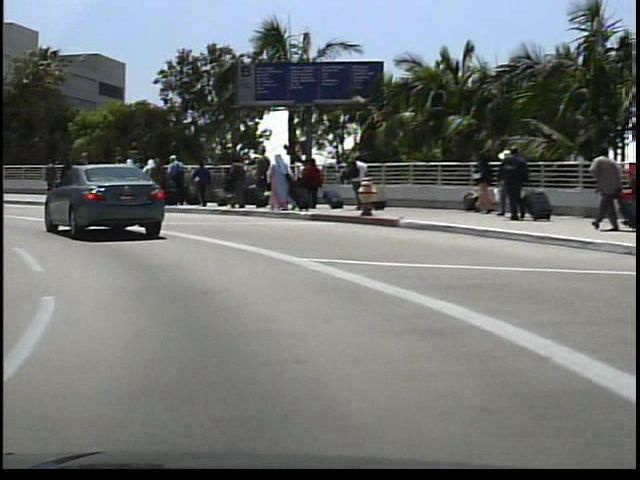person: (585, 143, 619, 231), (493, 145, 525, 221), (52, 152, 80, 211), (344, 150, 369, 209), (69, 151, 94, 206), (41, 159, 59, 196)
